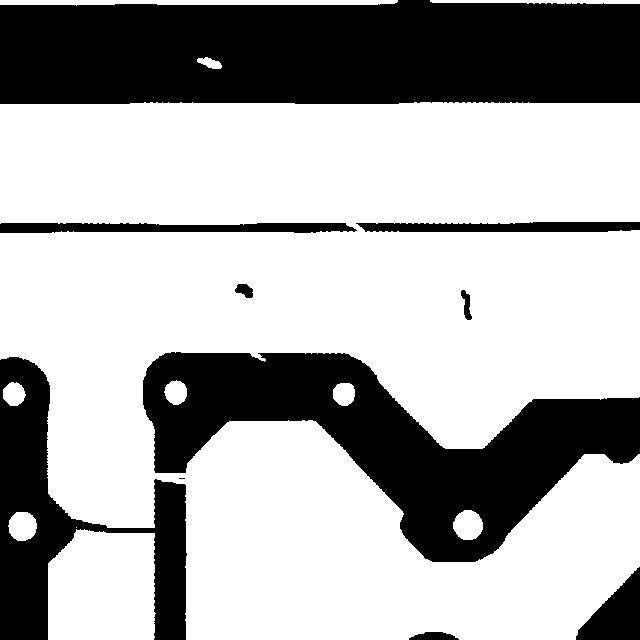copper: (451, 280, 481, 329), (225, 274, 262, 307)
mousebite: (235, 340, 275, 371)
open: (139, 463, 201, 493), (336, 211, 375, 245)
pin-hole: (187, 47, 231, 78)
short: (54, 509, 165, 542)
